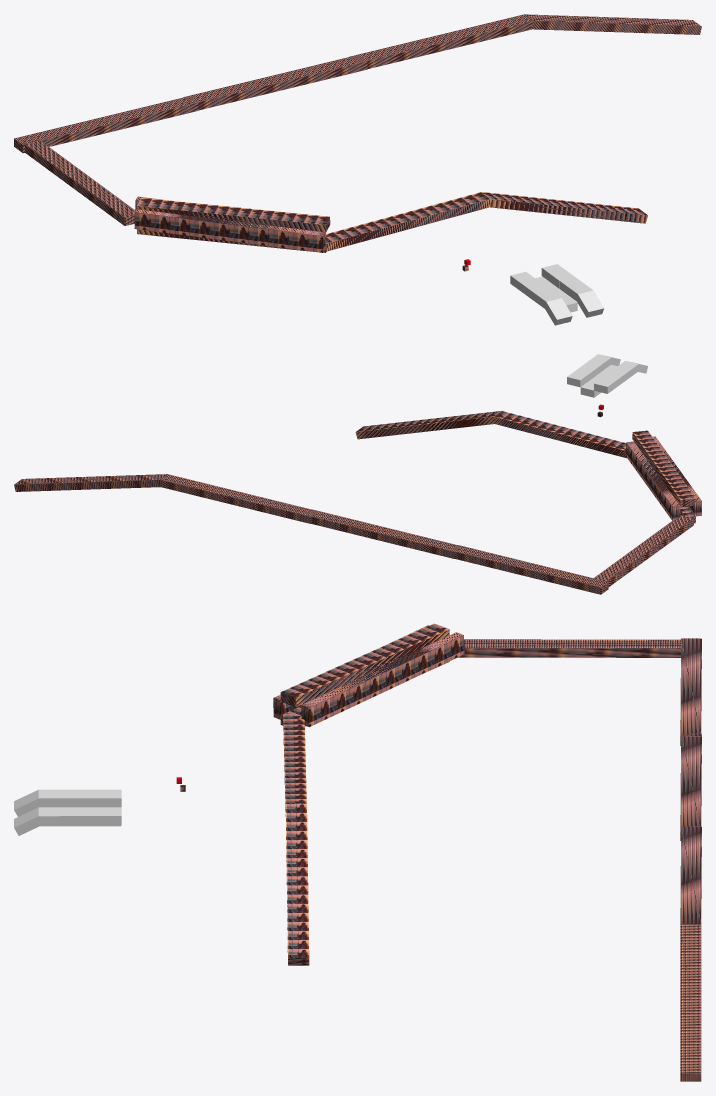
The picture shows the model from 3 angles, top to bottom: view 1: azimuth 30°, elevation 25°; view 2: azimuth 150°, elevation 25°; view 3: azimuth 270°, elevation 25°; orthographic projection. The views are drawn at different scales.
Parts seen in each view (by area): view 1: circuit.004, floor.035, floor.036, floor.039, circuit.002, circuit.006, floor.038, floor.034, circuit.001, circuit.003, floor.013, floor.014; view 2: floor.039, floor.036, floor.035, circuit.002, floor.038, floor.034, circuit.001, circuit.006, circuit.005, circuit.004; view 3: circuit.005, floor.034, circuit.001, floor.038, circuit.006, floor.039, floor.036, floor.035, circuit.002.
Boxes of the visible parts, x1=… form: circuit.004: x1=134, y1=209, x2=325, y2=252; floor.035: x1=183, y1=55, x2=367, y2=110; floor.036: x1=349, y1=14, x2=532, y2=69; floor.039: x1=14, y1=96, x2=197, y2=153; circuit.002: x1=325, y1=192, x2=490, y2=251; circuit.006: x1=136, y1=197, x2=330, y2=232; floor.038: x1=524, y1=14, x2=701, y2=34; floor.034: x1=24, y1=140, x2=135, y2=225; circuit.001: x1=480, y1=192, x2=647, y2=223; circuit.003: x1=137, y1=229, x2=327, y2=252; floor.013: x1=576, y1=290, x2=604, y2=317; floor.014: x1=544, y1=298, x2=572, y2=325; floor.039: x1=450, y1=545, x2=608, y2=594; floor.036: x1=160, y1=474, x2=318, y2=523; floor.035: x1=304, y1=509, x2=461, y2=558; circuit.002: x1=494, y1=411, x2=626, y2=458; floor.038: x1=14, y1=474, x2=167, y2=491; floor.034: x1=593, y1=515, x2=693, y2=586; circuit.001: x1=355, y1=411, x2=501, y2=439; circuit.006: x1=632, y1=430, x2=695, y2=507; circuit.005: x1=626, y1=441, x2=680, y2=520; circuit.004: x1=652, y1=436, x2=701, y2=516; circuit.005: x1=301, y1=632, x2=464, y2=727; floor.034: x1=458, y1=639, x2=682, y2=657; circuit.001: x1=285, y1=803, x2=309, y2=965; floor.038: x1=680, y1=924, x2=701, y2=1081; circuit.006: x1=280, y1=623, x2=449, y2=707; floor.039: x1=680, y1=638, x2=701, y2=745; floor.036: x1=680, y1=826, x2=701, y2=924; floor.035: x1=680, y1=733, x2=701, y2=840; circuit.002: x1=283, y1=714, x2=306, y2=810.
Size of what is drawn, in the model's own units: 346 by 39.26 by 264.
14 materials, 12 textured.
